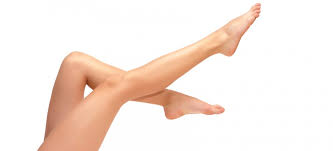Humano: (44, 2, 266, 151)
